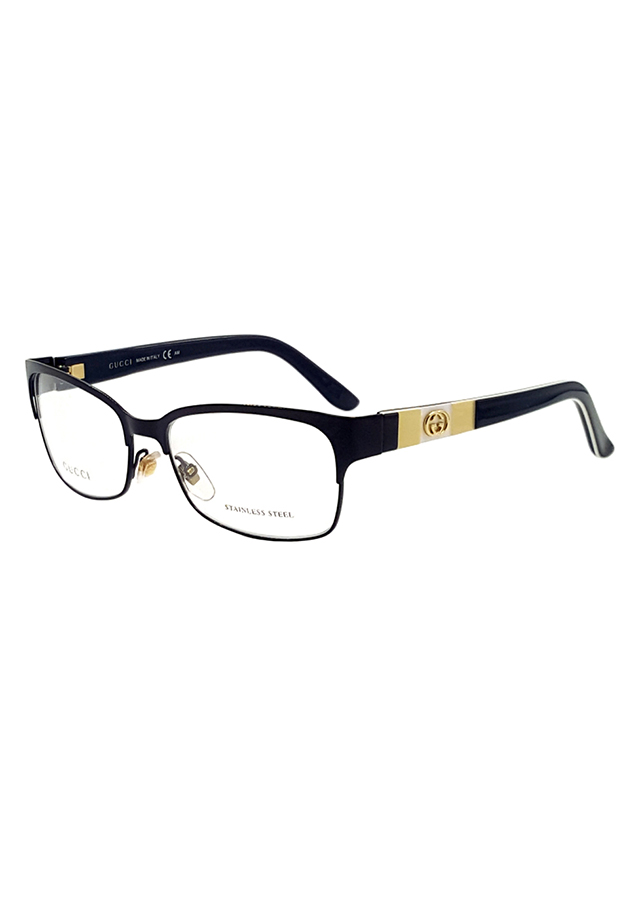Gucci: (414, 407, 455, 443), (60, 456, 98, 487), (102, 354, 140, 373)
